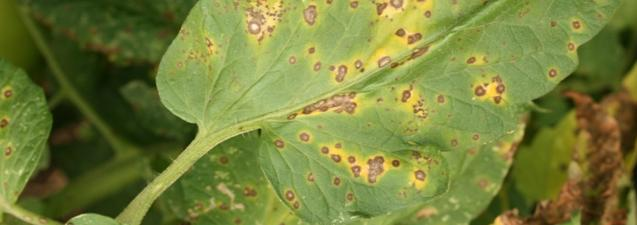Tomato Septoria leaf spot: (158, 0, 637, 222)
